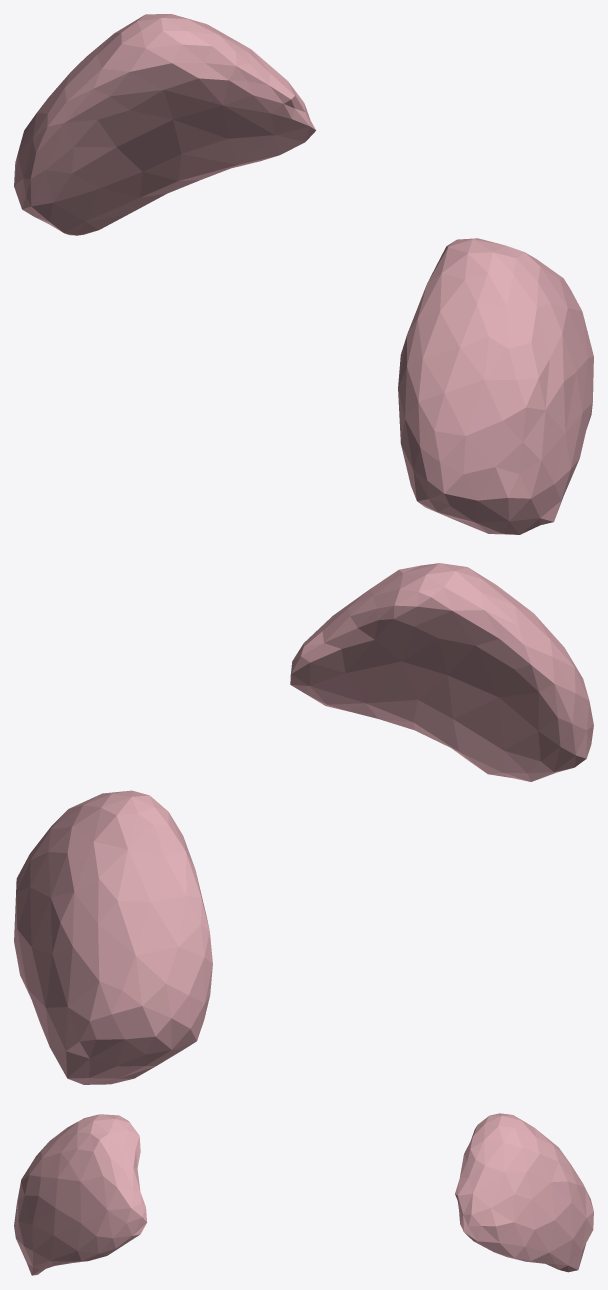
The picture shows the model from 3 angles, top to bottom: view 1: azimuth 30°, elevation 25°; view 2: azimuth 150°, elevation 25°; view 3: azimuth 270°, elevation 25°; orthographic projection. The views are drawn at different scales.
Parts seen in each view (by area): view 1: 1104.obj; view 2: 1104.obj; view 3: 1104.obj.
Part boxes in pixels (left/top/right/bottom): 1104.obj: left=14, top=14, right=593, bottom=534; 1104.obj: left=14, top=563, right=593, bottom=1084; 1104.obj: left=14, top=1113, right=593, bottom=1275.
Bounding box in the file's own units: 616 × 630 × 2100.
